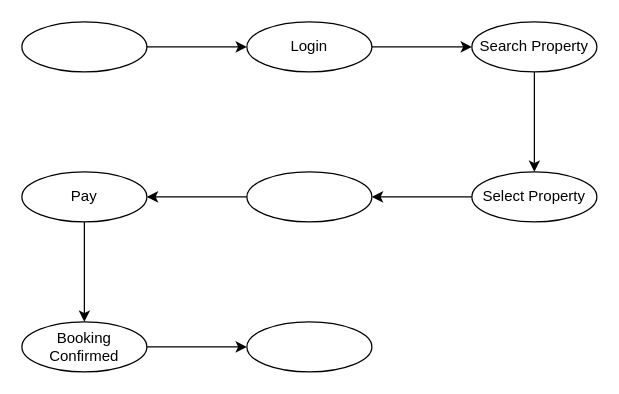
This 619x394 diagram has some shape labels left out. The box of each missing label's shape, as (x1, y1, x2, y2) in pixels:
Confirm Booking: (246, 171, 372, 222)
End: (246, 321, 372, 372)
Start: (21, 21, 147, 72)
